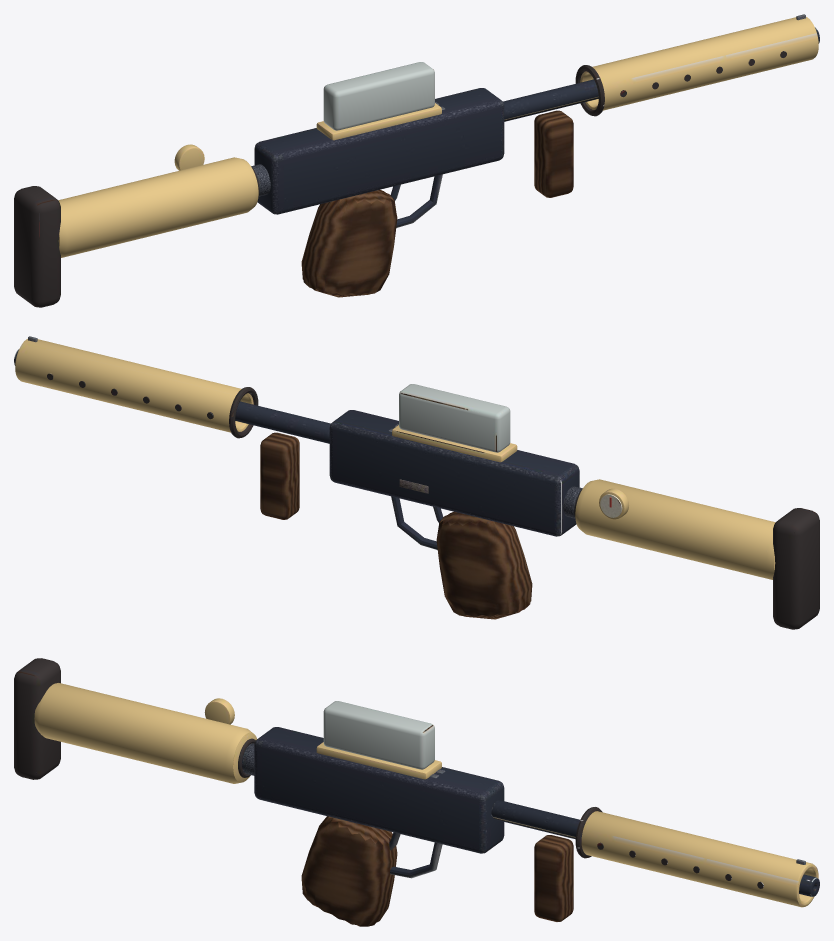
The model's file is needler1.glb.
3 views of the same model, one above another, from view 1: azimuth 30°, elevation 25°; view 2: azimuth 150°, elevation 25°; view 3: azimuth 330°, elevation 25° (orthographic).
Visible parts, largest first — view 1: receiver, stock_bottle, shroud, grip, cartridge, butt, fore_grip, barrel, cradle, gauge, shroud_seal, trigger_guard; view 2: receiver, stock_bottle, shroud, grip, cartridge, butt, fore_grip, barrel, cradle, trigger_guard, shroud_seal; view 3: receiver, stock_bottle, shroud, grip, cartridge, butt, fore_grip, barrel, cradle, gauge, trigger_guard.
Part boxes in pixels (x1,y1,x2,y2): receiver: (254, 88, 504, 214); stock_bottle: (58, 157, 258, 257); shroud: (580, 17, 818, 110); grip: (301, 189, 397, 297); cartridge: (323, 62, 434, 130); butt: (14, 186, 60, 307); fore_grip: (534, 110, 573, 197); barrel: (503, 27, 819, 121); cradle: (316, 103, 441, 140); gauge: (174, 144, 204, 170); shroud_seal: (575, 65, 604, 116); trigger_guard: (396, 174, 442, 227); receiver: (329, 410, 579, 536); stock_bottle: (575, 479, 775, 579); shroud: (15, 339, 253, 432); grip: (436, 511, 532, 619); cartridge: (399, 384, 510, 452); butt: (773, 508, 819, 629); fore_grip: (260, 432, 299, 519); barrel: (14, 349, 330, 443); cradle: (392, 425, 517, 462); trigger_guard: (391, 496, 437, 549); shroud_seal: (229, 387, 258, 438); receiver: (254, 727, 504, 853); stock_bottle: (34, 683, 256, 783); shroud: (581, 811, 818, 907); grip: (301, 816, 397, 926); cartridge: (323, 701, 434, 769); butt: (14, 658, 60, 779); fore_grip: (534, 835, 573, 921); barrel: (491, 800, 819, 896); cradle: (316, 742, 441, 779); gauge: (204, 698, 234, 724); trigger_guard: (390, 842, 442, 878).
Size of the model in its own units: 0.545 by 0.1386 by 0.0394.
Materials: 1 (1 with a texture image).
